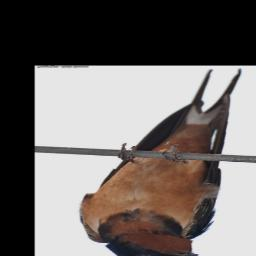Swallow: (78, 68, 244, 256)
